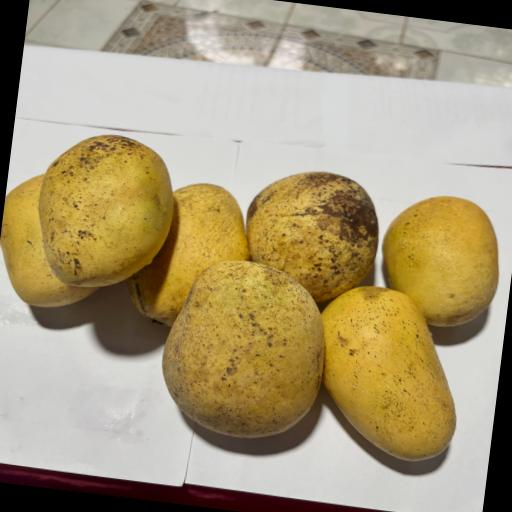fruit: (153, 244, 343, 470), (304, 270, 488, 491), (25, 116, 189, 302), (108, 160, 258, 340), (238, 152, 406, 312), (371, 176, 512, 341), (0, 158, 103, 332)
